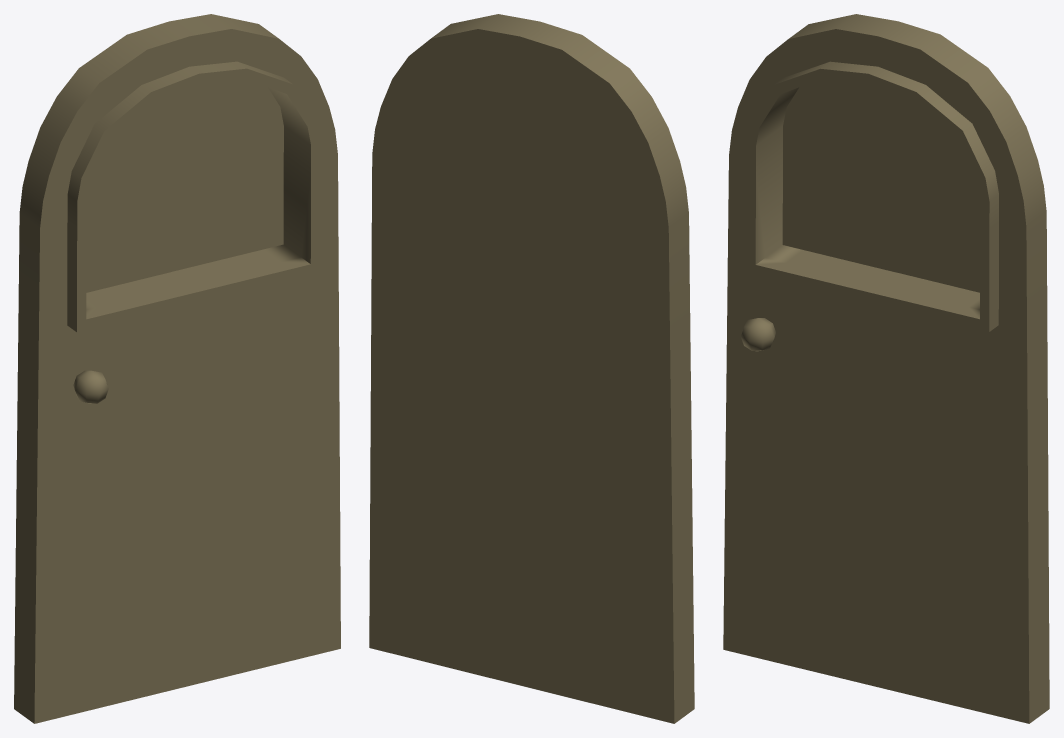
Rendered from DoorB_1.fbx.
3 views of the same model, side by side, from view 1: azimuth 30°, elevation 25°; view 2: azimuth 150°, elevation 25°; view 3: azimuth 330°, elevation 25° (orthographic).
Visible parts, largest first — view 1: DoorB_1; view 2: DoorB_1; view 3: DoorB_1.
Boxes of the visible parts, x1,y1,x2,y2 form: DoorB_1: [14, 14, 340, 723]; DoorB_1: [369, 14, 694, 723]; DoorB_1: [723, 14, 1049, 723].
Size of the model in its own units: 92.11 by 187 by 21.
